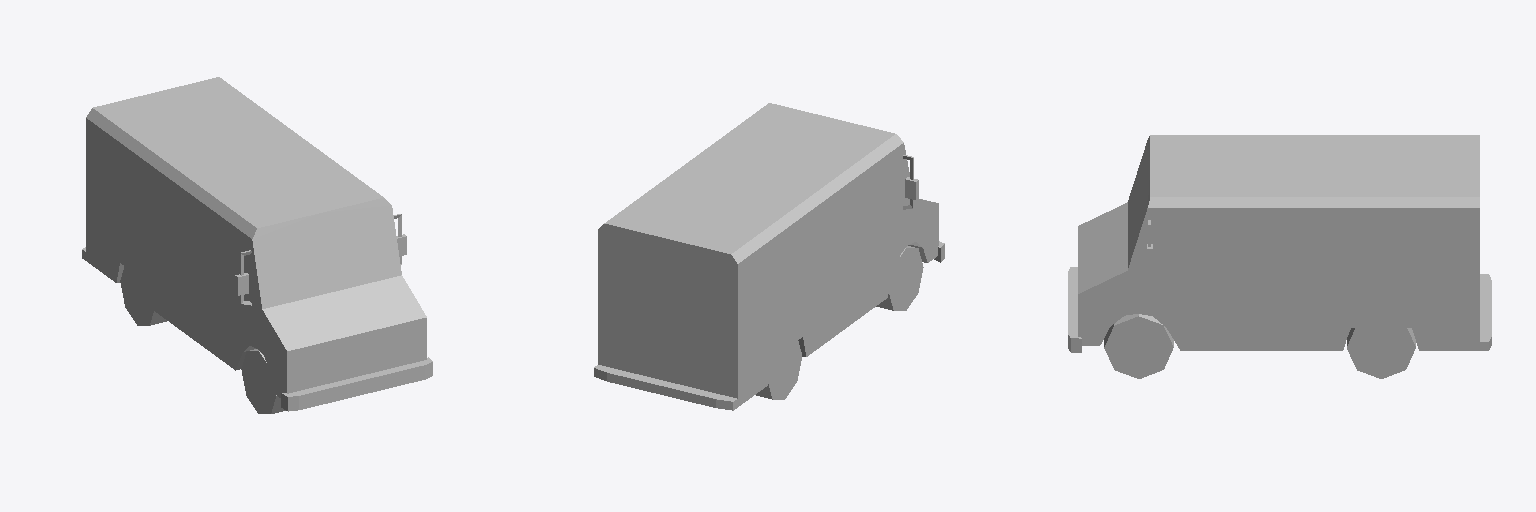
The model's file is ambulance.obj.
3 views of the same model, side by side, from view 1: azimuth 30°, elevation 25°; view 2: azimuth 150°, elevation 25°; view 3: azimuth 270°, elevation 25° (orthographic).
Parts seen in each view (by area): view 1: Car8; view 2: Car8; view 3: Car8.
Part boxes in pixels (left/top/right/bottom): Car8: left=82, top=77, right=432, bottom=413; Car8: left=594, top=103, right=944, bottom=410; Car8: left=1068, top=135, right=1491, bottom=378.
Size of the model in its own units: 3.17 by 3.23 by 6.89.